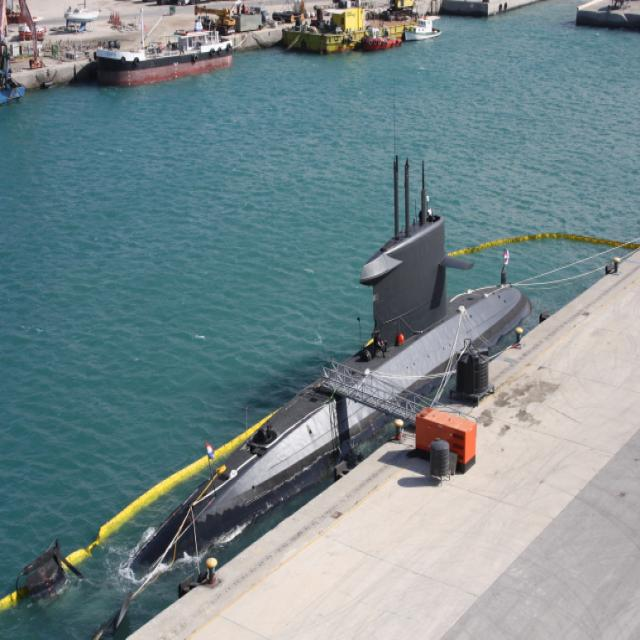submarine: (130, 157, 534, 585)
